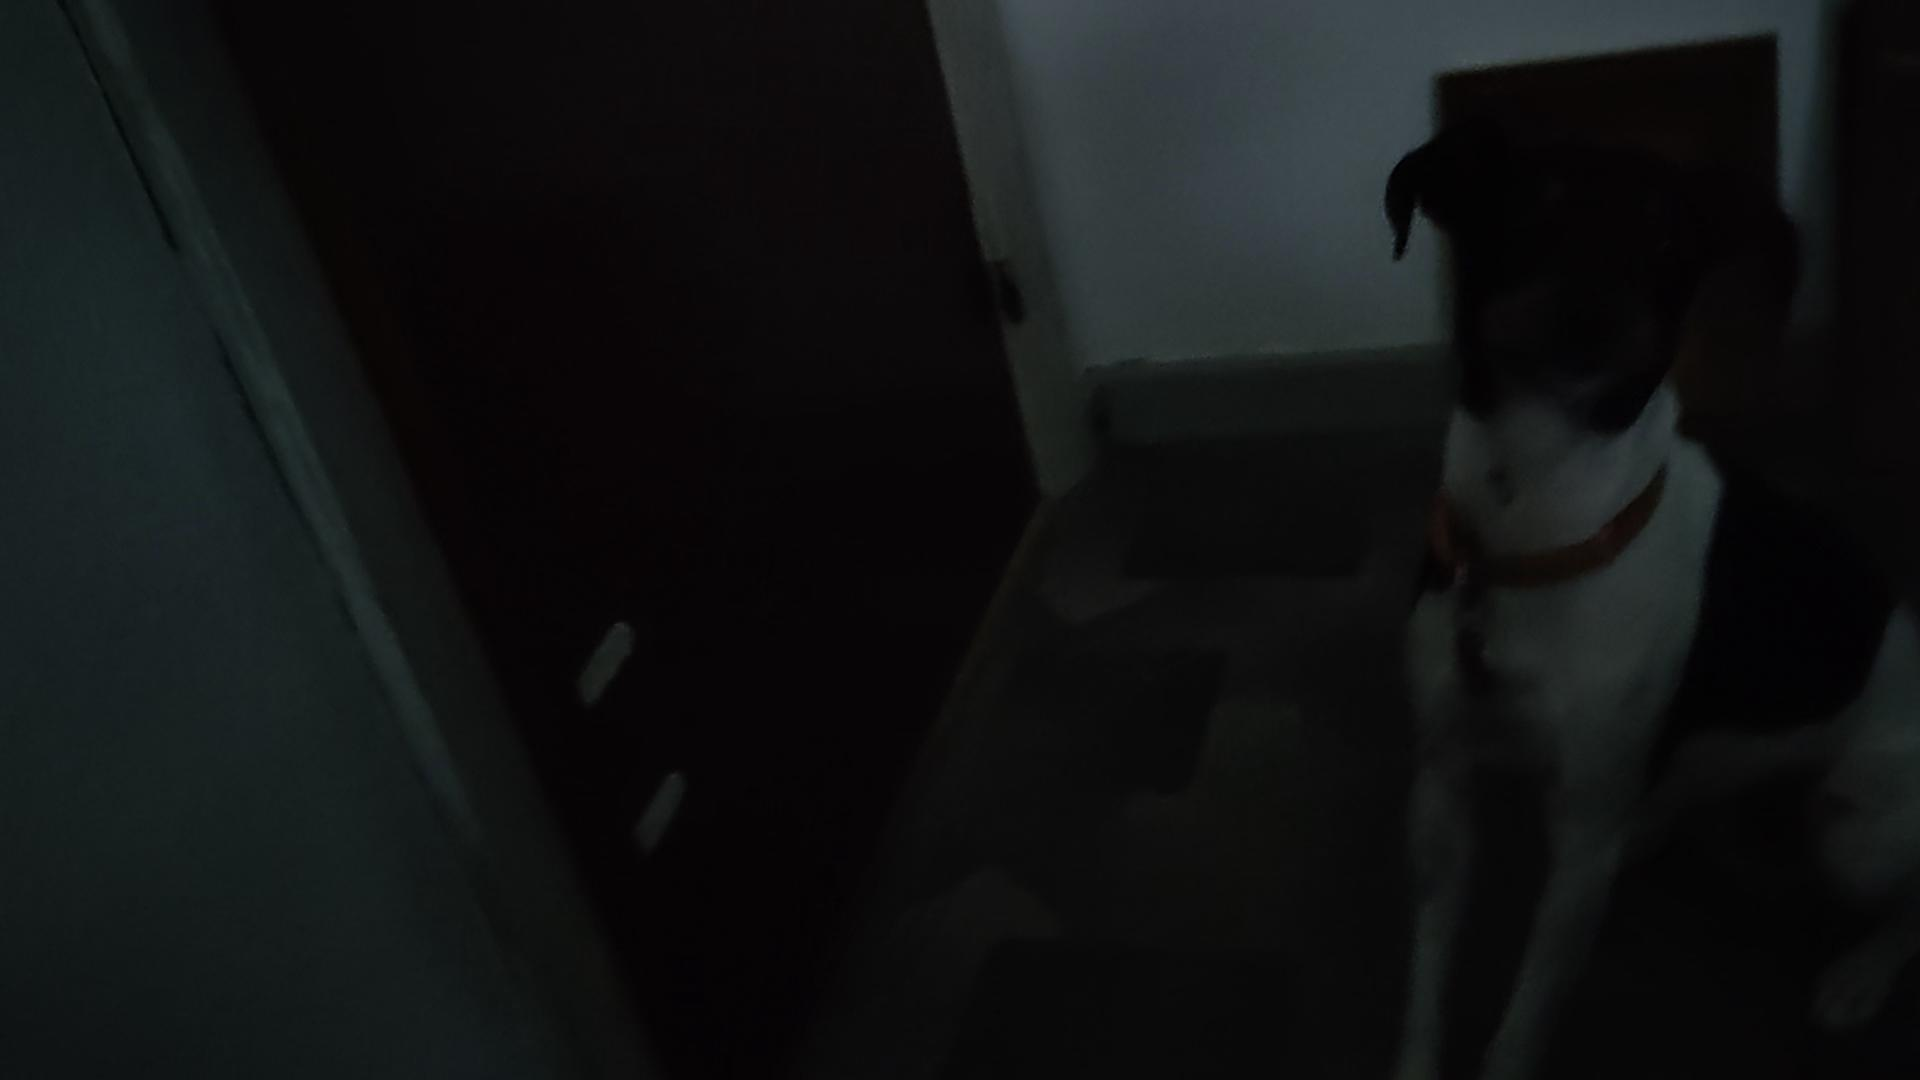Dog: (1338, 105, 1919, 1079)
